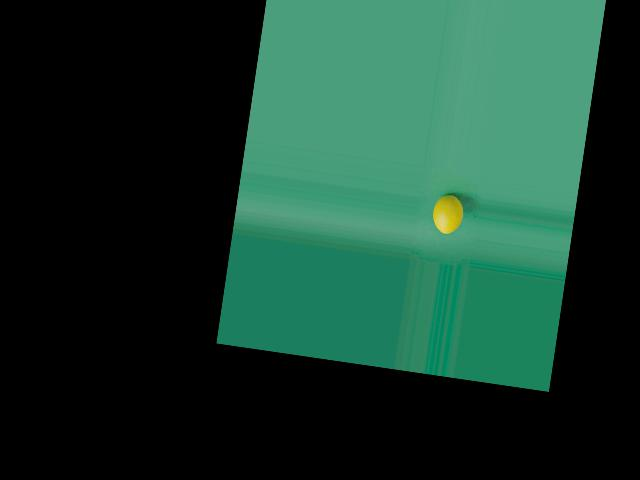egg: (429, 192, 464, 236)
